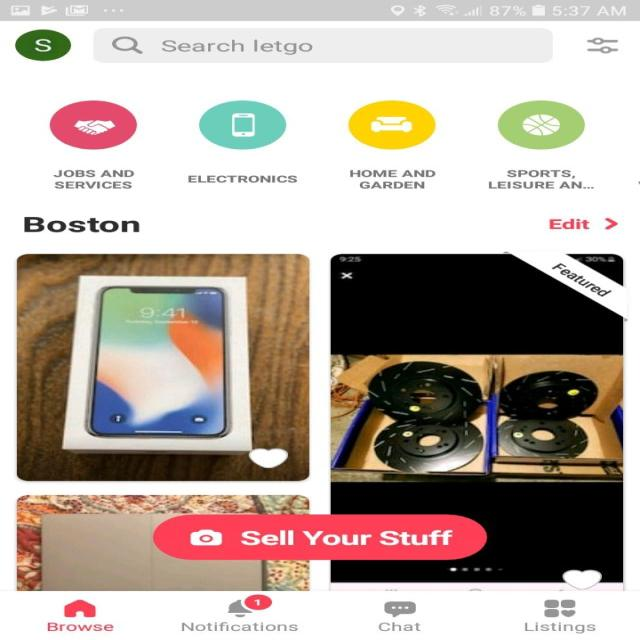EditText: (92, 28, 552, 63)
Icon: (226, 593, 272, 617), (248, 448, 288, 468), (562, 570, 602, 589), (542, 598, 575, 617), (63, 598, 96, 617), (383, 600, 416, 618), (111, 36, 143, 54), (586, 37, 618, 54), (604, 218, 618, 230)
Image: (330, 254, 624, 590), (16, 253, 310, 481), (16, 494, 310, 590), (346, 100, 436, 150), (49, 100, 137, 150), (198, 100, 286, 150), (497, 100, 585, 150), (14, 29, 71, 61)
Text: (161, 39, 313, 55), (488, 169, 594, 189), (23, 217, 140, 232), (350, 169, 436, 189), (52, 169, 134, 189), (180, 621, 298, 631), (187, 175, 297, 183), (524, 622, 596, 634), (46, 621, 114, 631), (548, 218, 590, 230), (378, 621, 420, 631)
TextButton: (152, 514, 487, 560)
